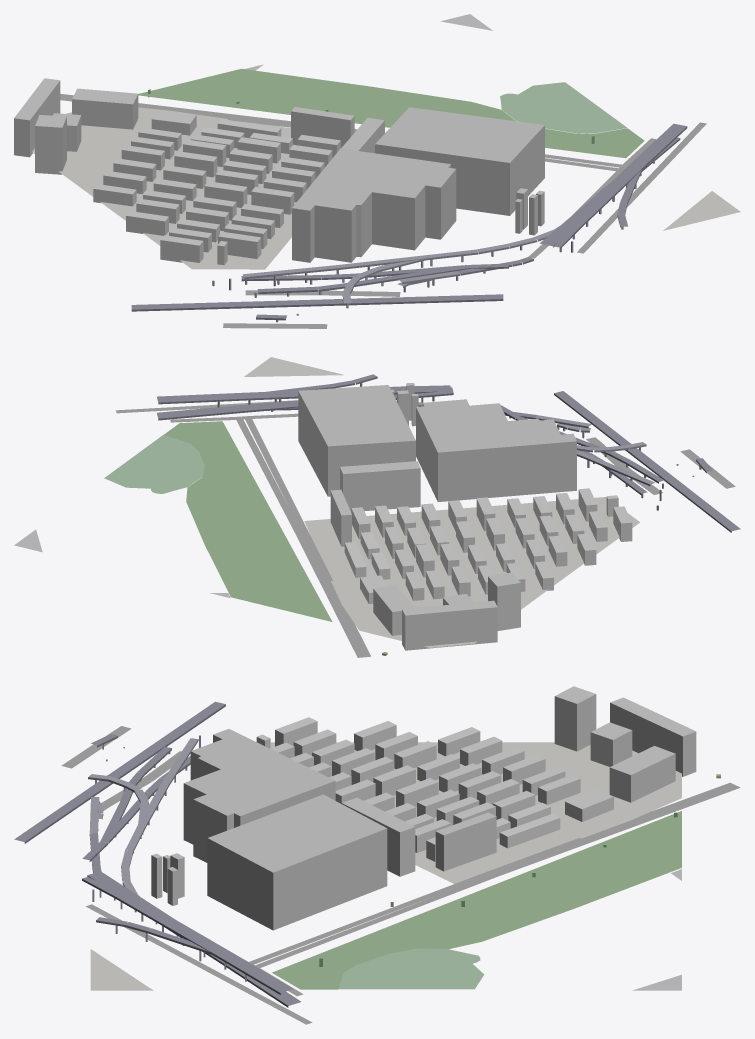
3 views of the same model, one above another, from view 1: azimuth 30°, elevation 25°; view 2: azimuth 150°, elevation 25°; view 3: azimuth 270°, elevation 25° (orthographic). The views are drawn at different scales.
Bounding box in the file's own units: 658 × 60.88 × 615.
